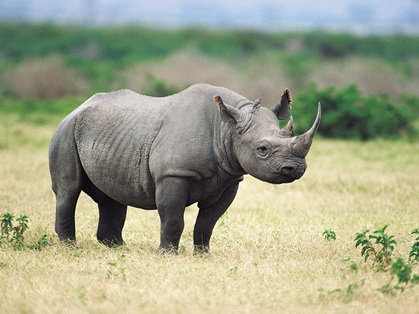rhino: (184, 168, 419, 314)
